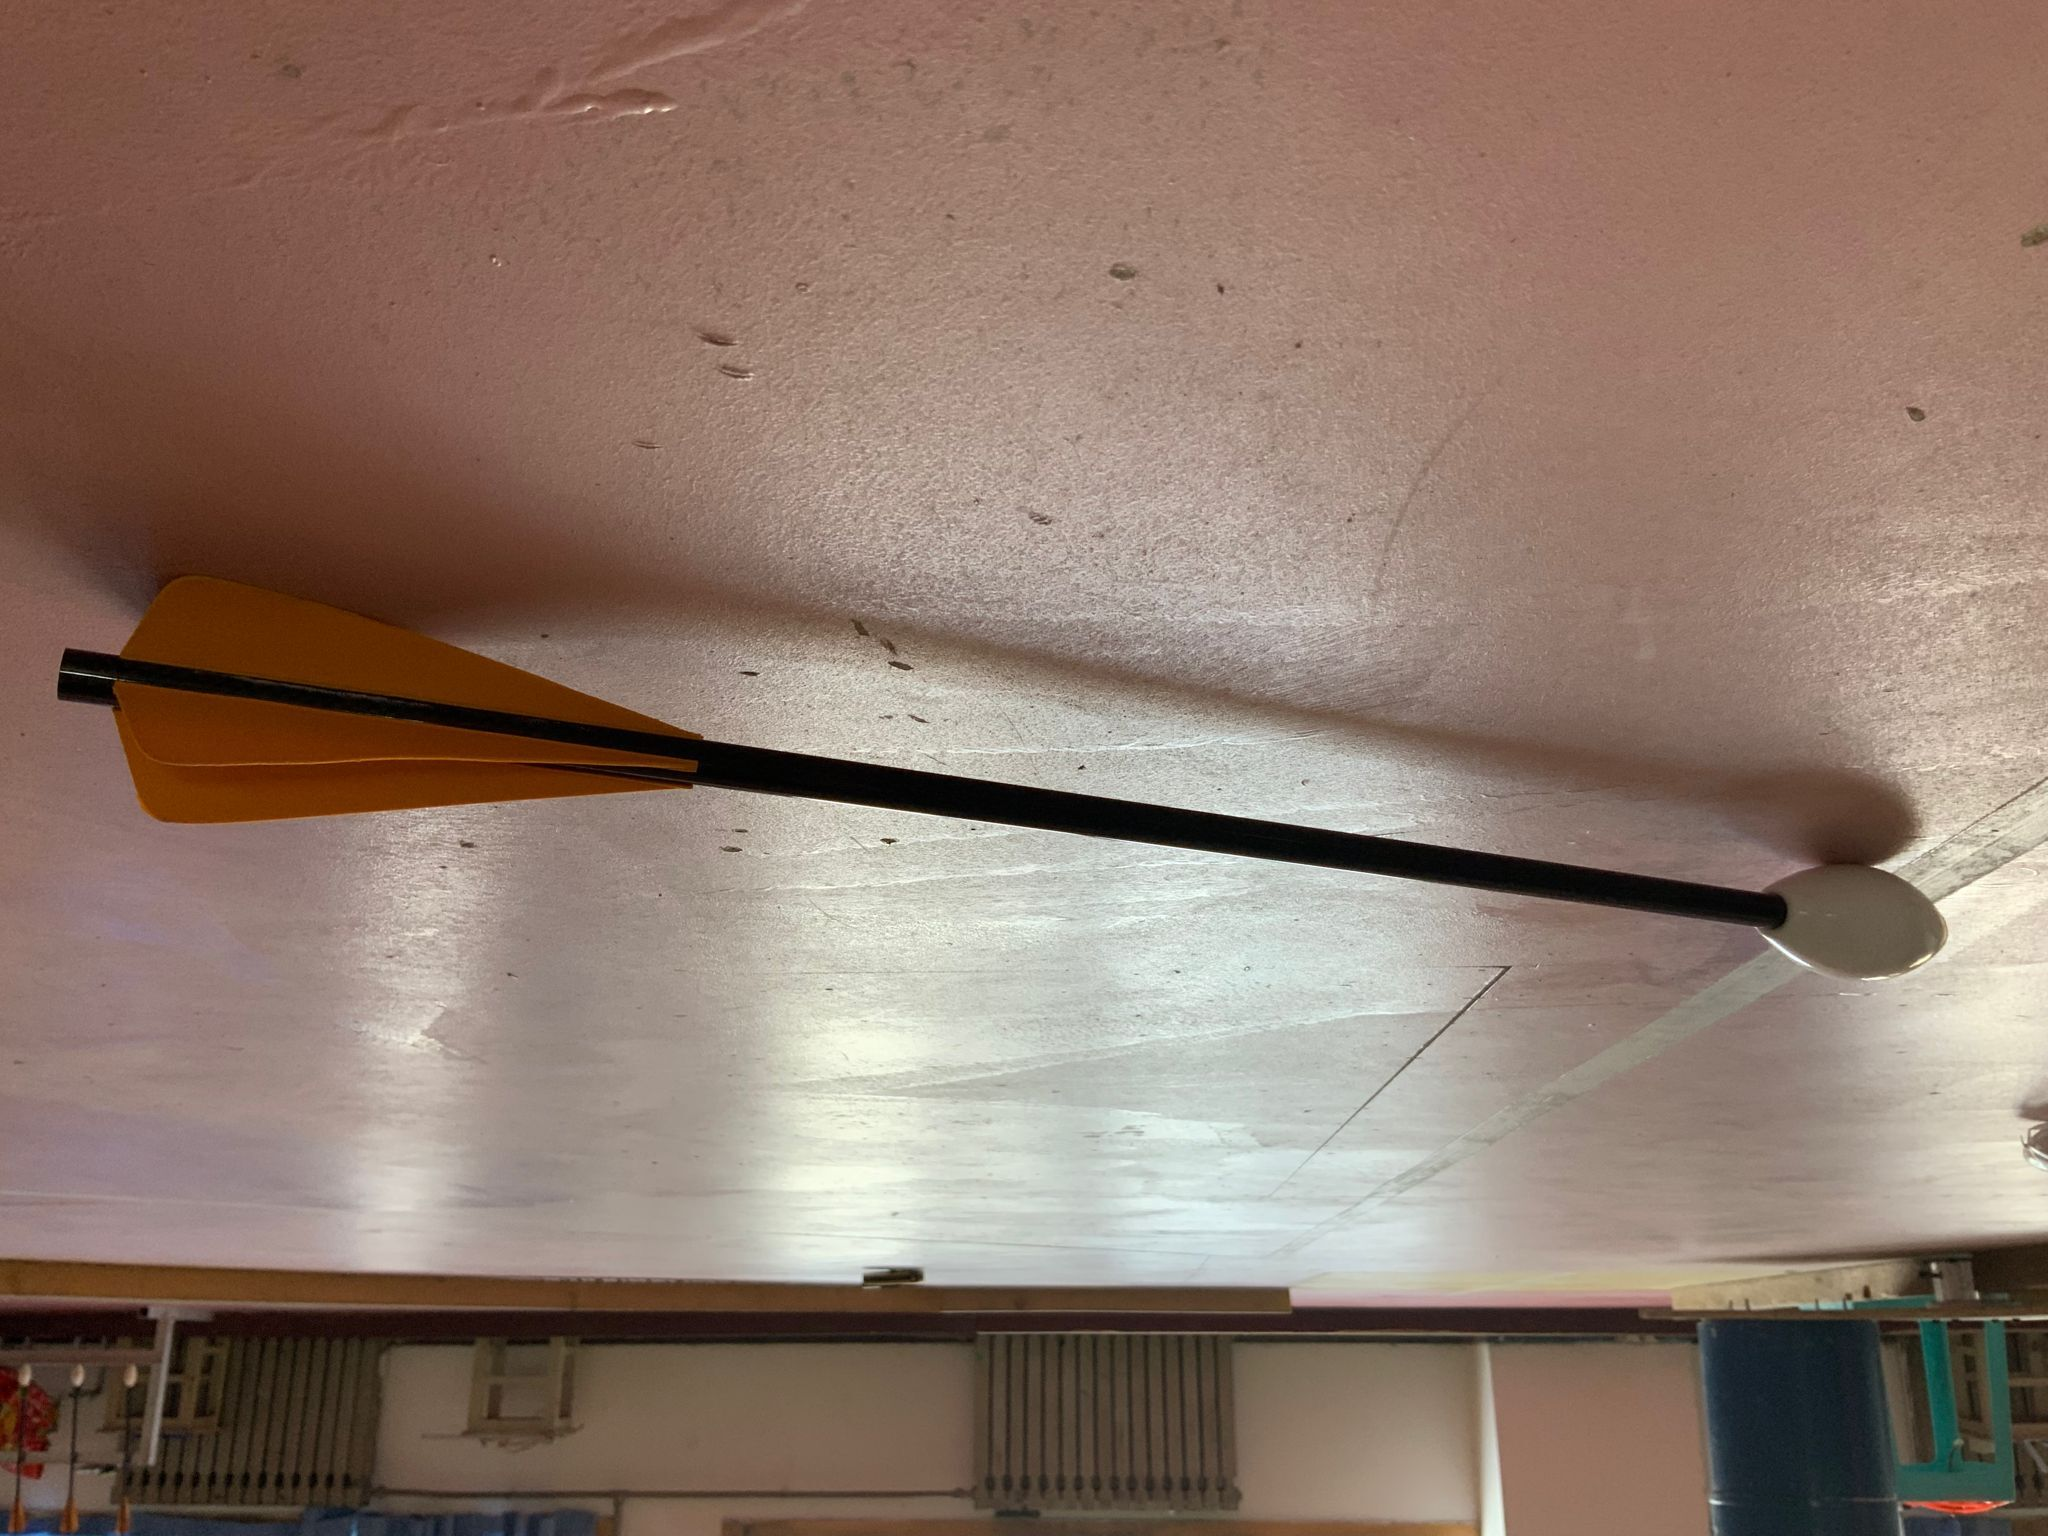arrow: (55, 571, 1951, 979)
arrowFront: (1748, 862, 1951, 981)
